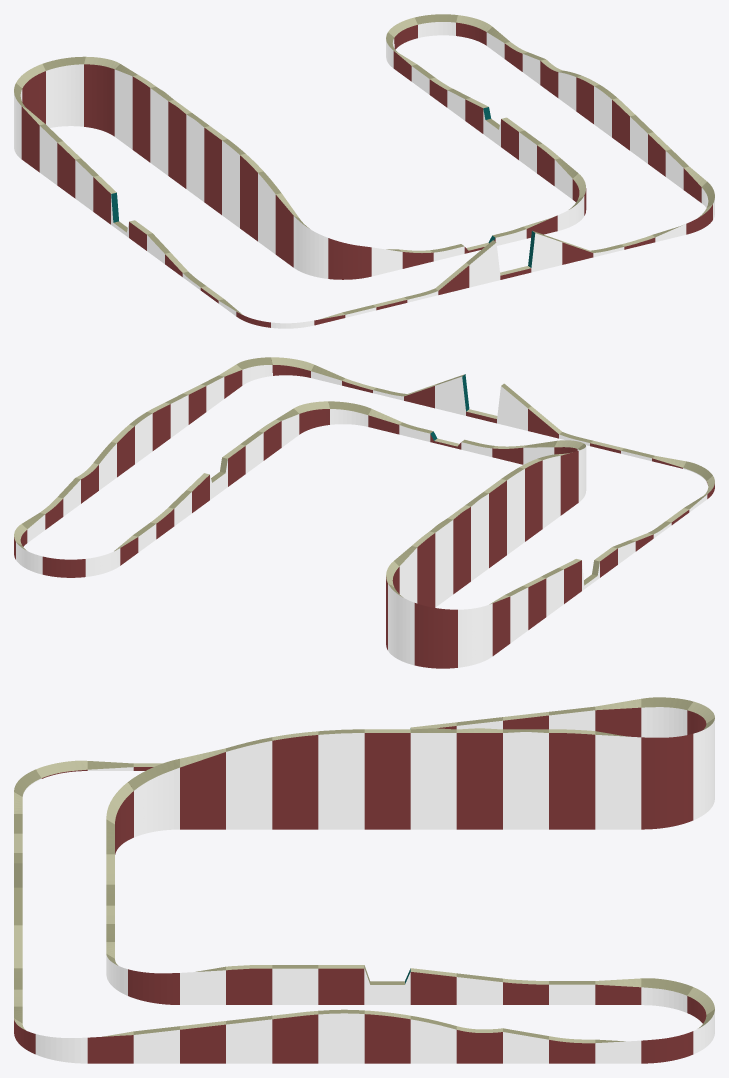
The model's file is draw-bridge.glb.
3 renders of one model, top to bottom at view 1: azimuth 30°, elevation 25°; view 2: azimuth 150°, elevation 25°; view 3: azimuth 270°, elevation 25°, orthographic. The views are drawn at different scales.
Parts seen in each view (by area): view 1: draw-bridge; view 2: draw-bridge; view 3: draw-bridge.
Part boxes in pixels (x1=…): draw-bridge: x1=14, y1=14, x2=714, y2=328; draw-bridge: x1=14, y1=357, x2=714, y2=668; draw-bridge: x1=14, y1=697, x2=714, y2=1063.
Bounding box in the file's own units: 30.38 × 4.66 × 30.38.
